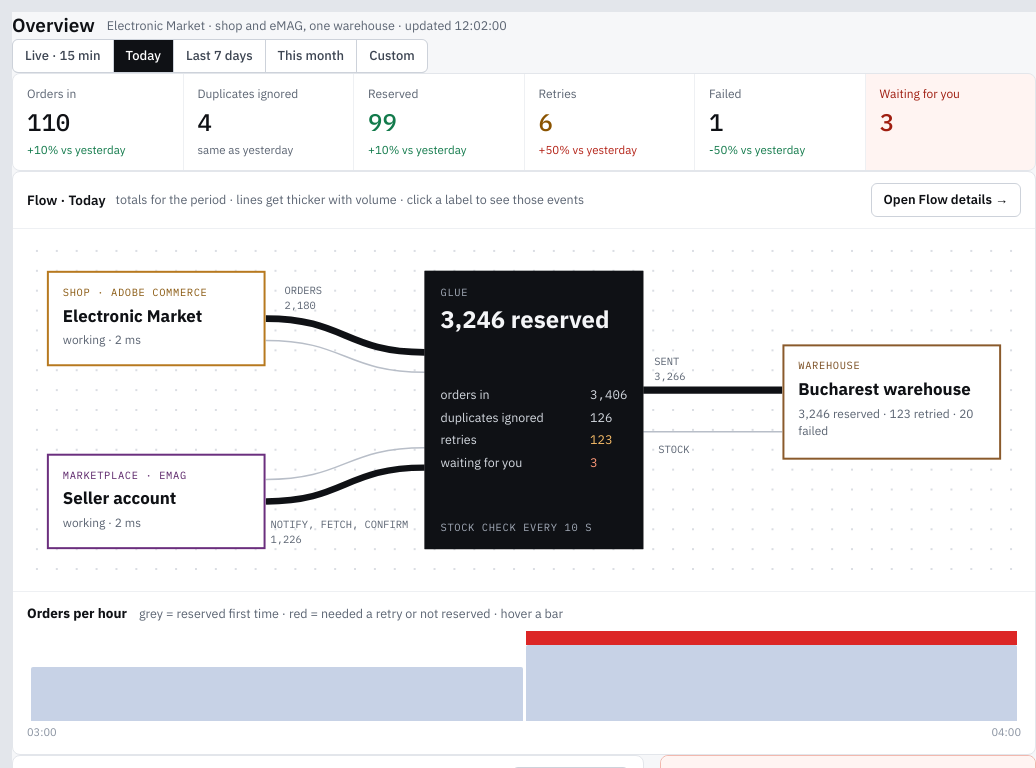
Test case: keeps the last counters on screen while a new range loads
The image size is (1036, 768).
Check: the text "same as yesterday" is shown, box [198, 142, 293, 157]
Click the button "This month".
click(311, 56)  # box [266, 40, 356, 72]
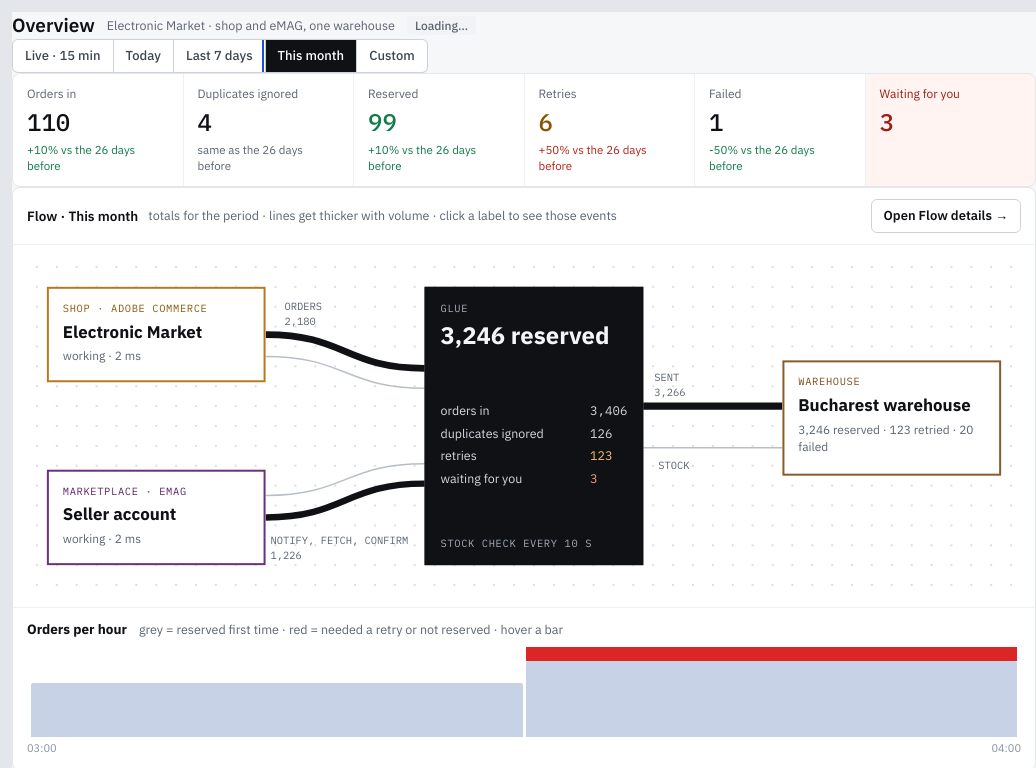
Check: the text "99" is shown, box [368, 106, 397, 138]
Check: the message reads "Loading…", box [415, 18, 468, 32]
